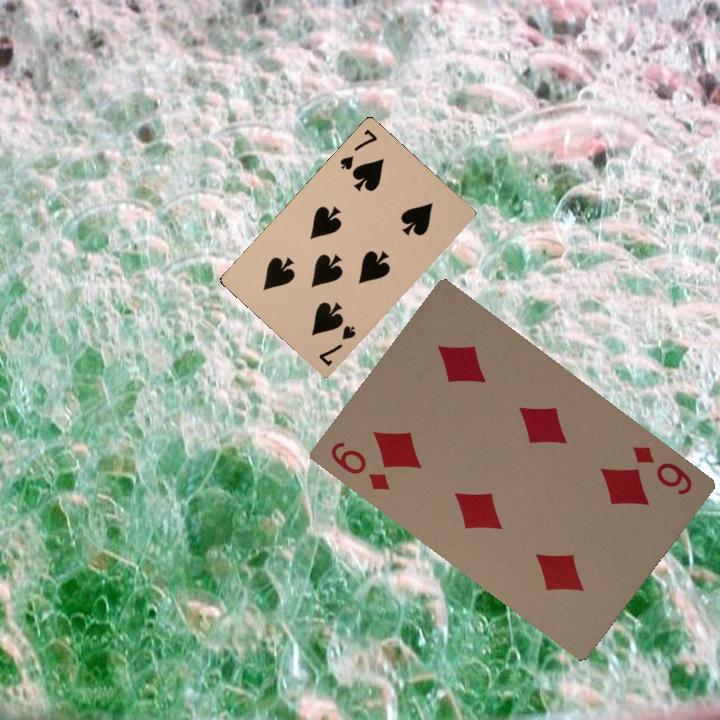6d: (628, 442, 695, 498), (326, 437, 392, 493)
7s: (314, 321, 359, 369), (336, 125, 380, 173)
